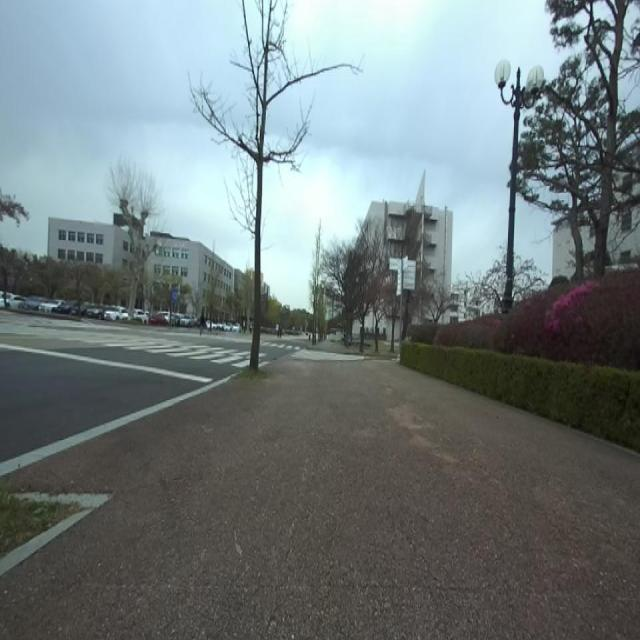sidewalk: (0, 358, 640, 639), (0, 374, 234, 476)
